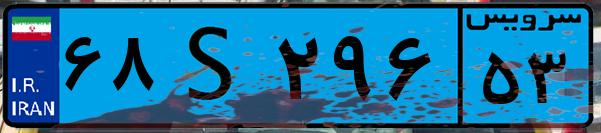2: (270, 28, 330, 110)
3: (525, 38, 570, 115)
5: (475, 38, 525, 113)
6: (385, 28, 445, 110), (57, 26, 110, 100)
8: (110, 28, 158, 98)
9: (330, 28, 385, 110)
S: (158, 12, 270, 120)
